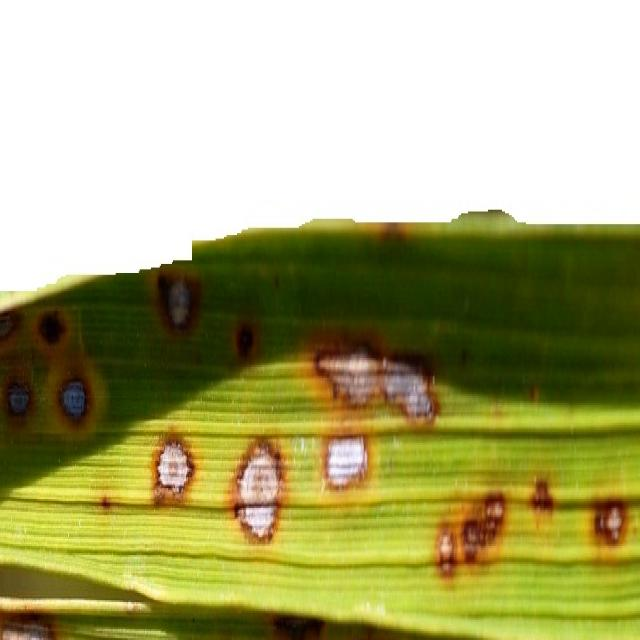brown spot: (226, 402, 304, 574), (304, 335, 446, 427), (40, 358, 112, 454), (318, 404, 379, 516), (149, 254, 213, 359), (146, 414, 201, 530), (456, 476, 510, 574), (230, 301, 268, 390), (0, 365, 39, 447), (28, 293, 76, 359), (268, 595, 331, 640), (435, 497, 460, 591), (590, 492, 632, 547), (525, 468, 558, 530)
